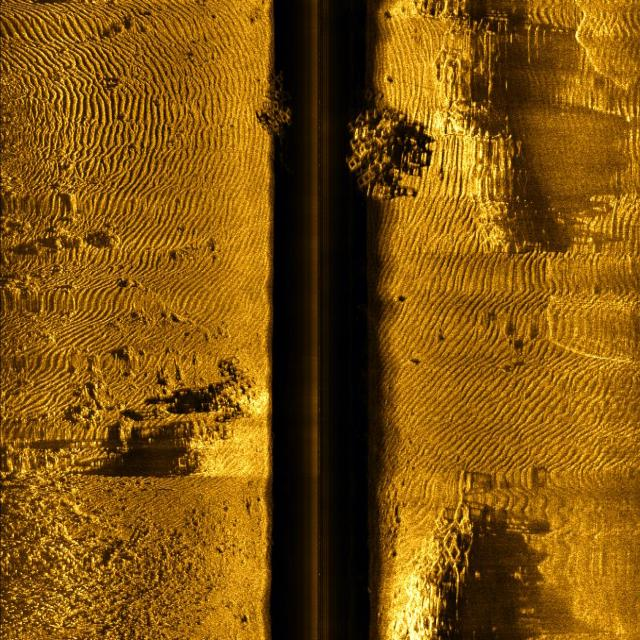artificial reef: (392, 504, 490, 640), (347, 100, 417, 227), (252, 56, 302, 172)
